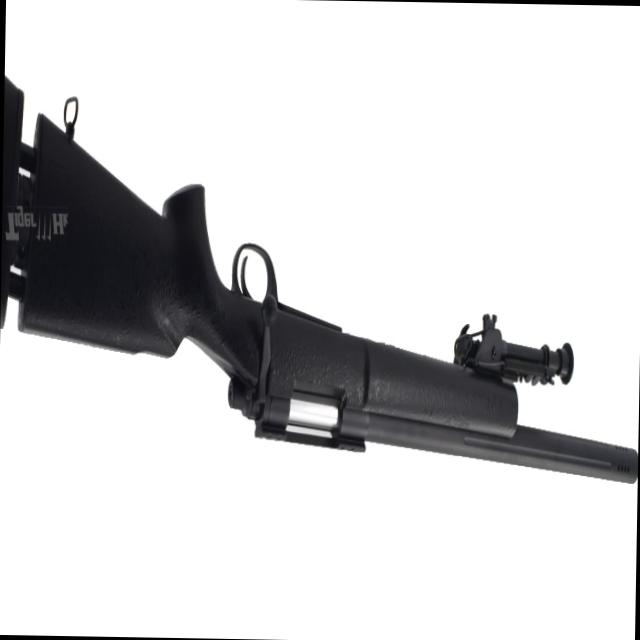Gun: (0, 43, 640, 560)
